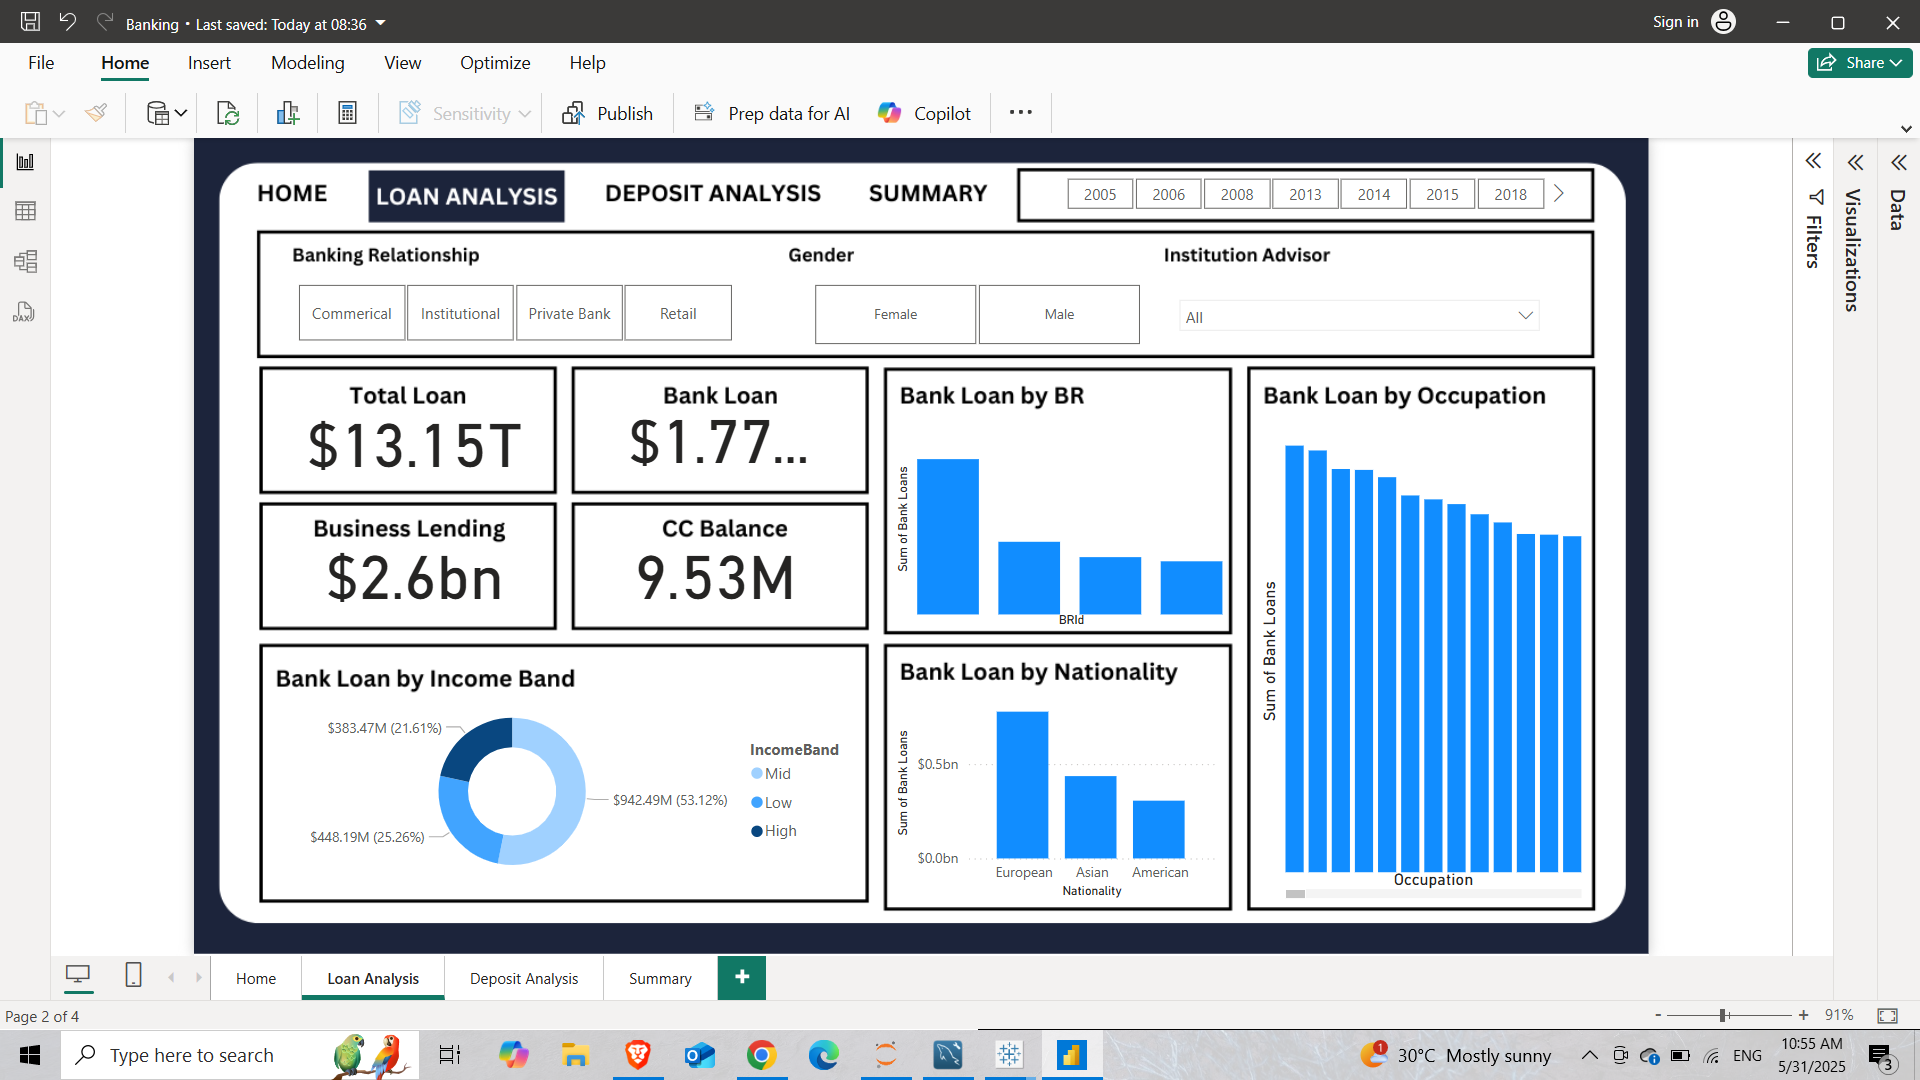

Layout of this report page (visuals, bound fields, positions):
{"tool":"powerbi","page":{"name":"Loan Analysis","canvas":[1280,720],"ordinal":1},"visuals":[{"type":"card","fields":{"Values":["Sum(Banking.Total Loan)"]},"box":[89.2,242.9,209.9,63.1],"z":0},{"type":"actionButton","box":[52.1,28.8,74.1,37],"z":1000},{"type":"actionButton","box":[360.9,24.7,197.6,56.3],"z":2000},{"type":"actionButton","box":[590.1,26.1,113.9,54.9],"z":3000},{"type":"slicer","fields":{"Values":["Banking.Year of Joining"]},"box":[742.4,28.8,469.3,37],"z":4000},{"type":"card","fields":{"Values":["Sum(Banking.Bank Loans)"]},"box":[363.6,242.9,194.9,54.9],"z":5000},{"type":"card","fields":{"Values":["Sum(Banking.Business Lending)"]},"box":[104.3,354,179.8,72.7],"z":6000},{"type":"card","fields":{"Values":["Sum(Banking.Credit Card Balance)"]},"box":[380.1,359.5,156.4,61.7],"z":7000},{"type":"donutChart","fields":{"Category":["Banking.IncomeBand"],"Y":["Sum(Banking.Bank Loans)"]},"box":[65.9,487.1,524.2,175.6],"z":8000},{"type":"clusteredColumnChart","fields":{"Y":["Sum(Banking.Bank Loans)"],"Category":["Banking.BRId"]},"box":[613.4,237.4,299.1,197.6],"z":9000},{"type":"clusteredColumnChart","fields":{"Y":["Sum(Banking.Bank Loans)"],"Category":["Banking.Nationality"]},"box":[613.4,487.1,289.5,186.6],"z":10000},{"type":"slicer","fields":{"Values":["Banking.BRId"]},"box":[65.9,122.1,430.9,63.1],"z":11000},{"type":"slicer","fields":{"Values":["Banking.GenderId"]},"box":[520.1,122.1,336.2,65.9],"z":12000},{"type":"slicer","fields":{"Values":["Banking.IAId"]},"box":[856.3,131.7,337.6,56.3],"z":13000},{"type":"clusteredColumnChart","fields":{"Y":["Sum(Banking.Bank Loans)"],"Category":["Banking.Occupation"]},"box":[933.1,242.9,292.3,430.9],"z":14000}]}

Visuals, with their boxes on the page's 1280x720 design canvas (x1, y1, x2, y2). These are canvas units, not pixel positions in the 1920x1080 screenshot, which may show the page scaled, cropped or inside an application window:
card - Sum(Banking.Total Loan): l=89, t=243, r=299, b=306
actionButton: l=52, t=29, r=126, b=66
actionButton: l=361, t=25, r=558, b=81
actionButton: l=590, t=26, r=704, b=81
slicer - Banking.Year of Joining: l=742, t=29, r=1212, b=66
card - Sum(Banking.Bank Loans): l=364, t=243, r=558, b=298
card - Sum(Banking.Business Lending): l=104, t=354, r=284, b=427
card - Sum(Banking.Credit Card Balance): l=380, t=360, r=536, b=421
donutChart - Banking.IncomeBand x Sum(Banking.Bank Loans): l=66, t=487, r=590, b=663
clusteredColumnChart - Sum(Banking.Bank Loans) x Banking.BRId: l=613, t=237, r=912, b=435
clusteredColumnChart - Sum(Banking.Bank Loans) x Banking.Nationality: l=613, t=487, r=903, b=674
slicer - Banking.BRId: l=66, t=122, r=497, b=185
slicer - Banking.GenderId: l=520, t=122, r=856, b=188
slicer - Banking.IAId: l=856, t=132, r=1194, b=188
clusteredColumnChart - Sum(Banking.Bank Loans) x Banking.Occupation: l=933, t=243, r=1225, b=674
